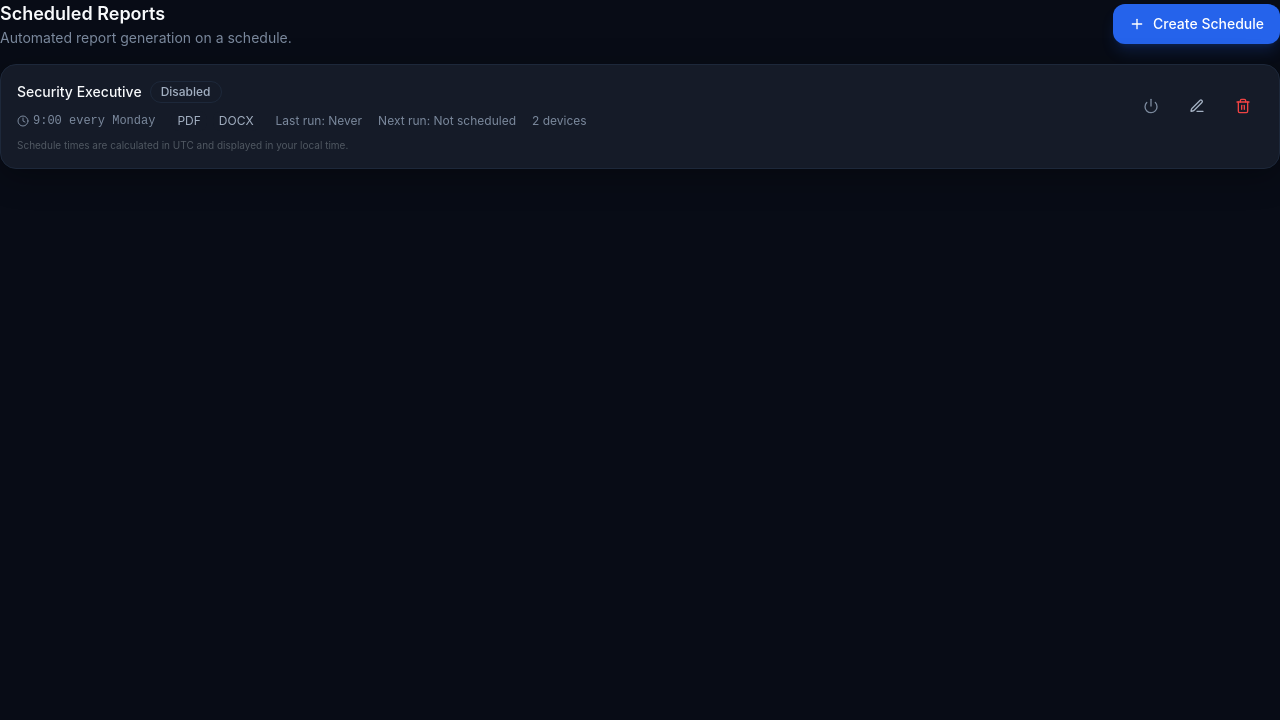
Test: ScheduledReportsSection › Edit Schedule › Failed update keeps the dialog open
Click the button named "edit schedule".
click(1197, 106)  # box [1177,88,1217,124]
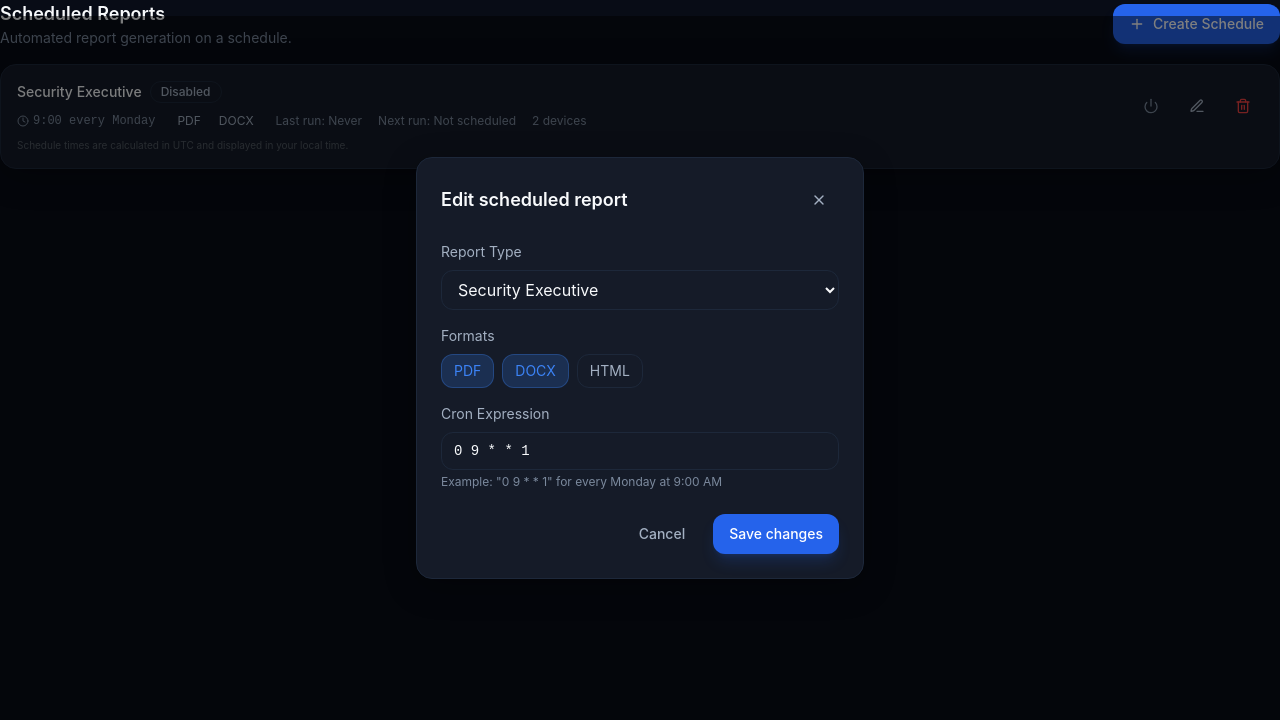
Click the button "Save changes".
click(776, 534)  # box [713,514,839,554]
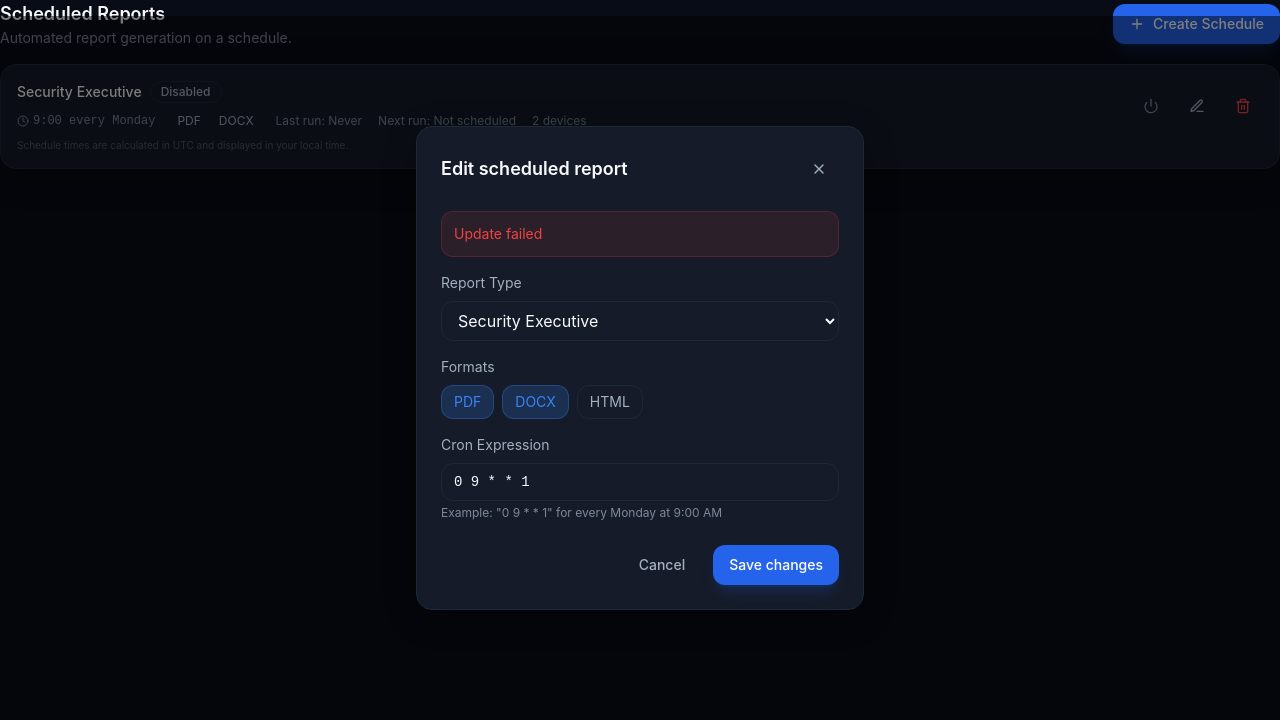
Expected: the dialog is shown
Expected: the text "Update failed" is shown, [441,211,839,257]
